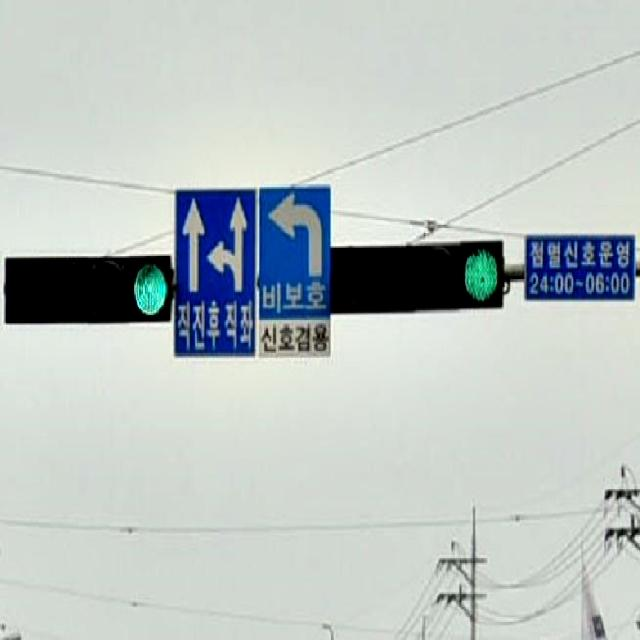Green Light: (128, 249, 172, 326), (458, 242, 504, 314)
